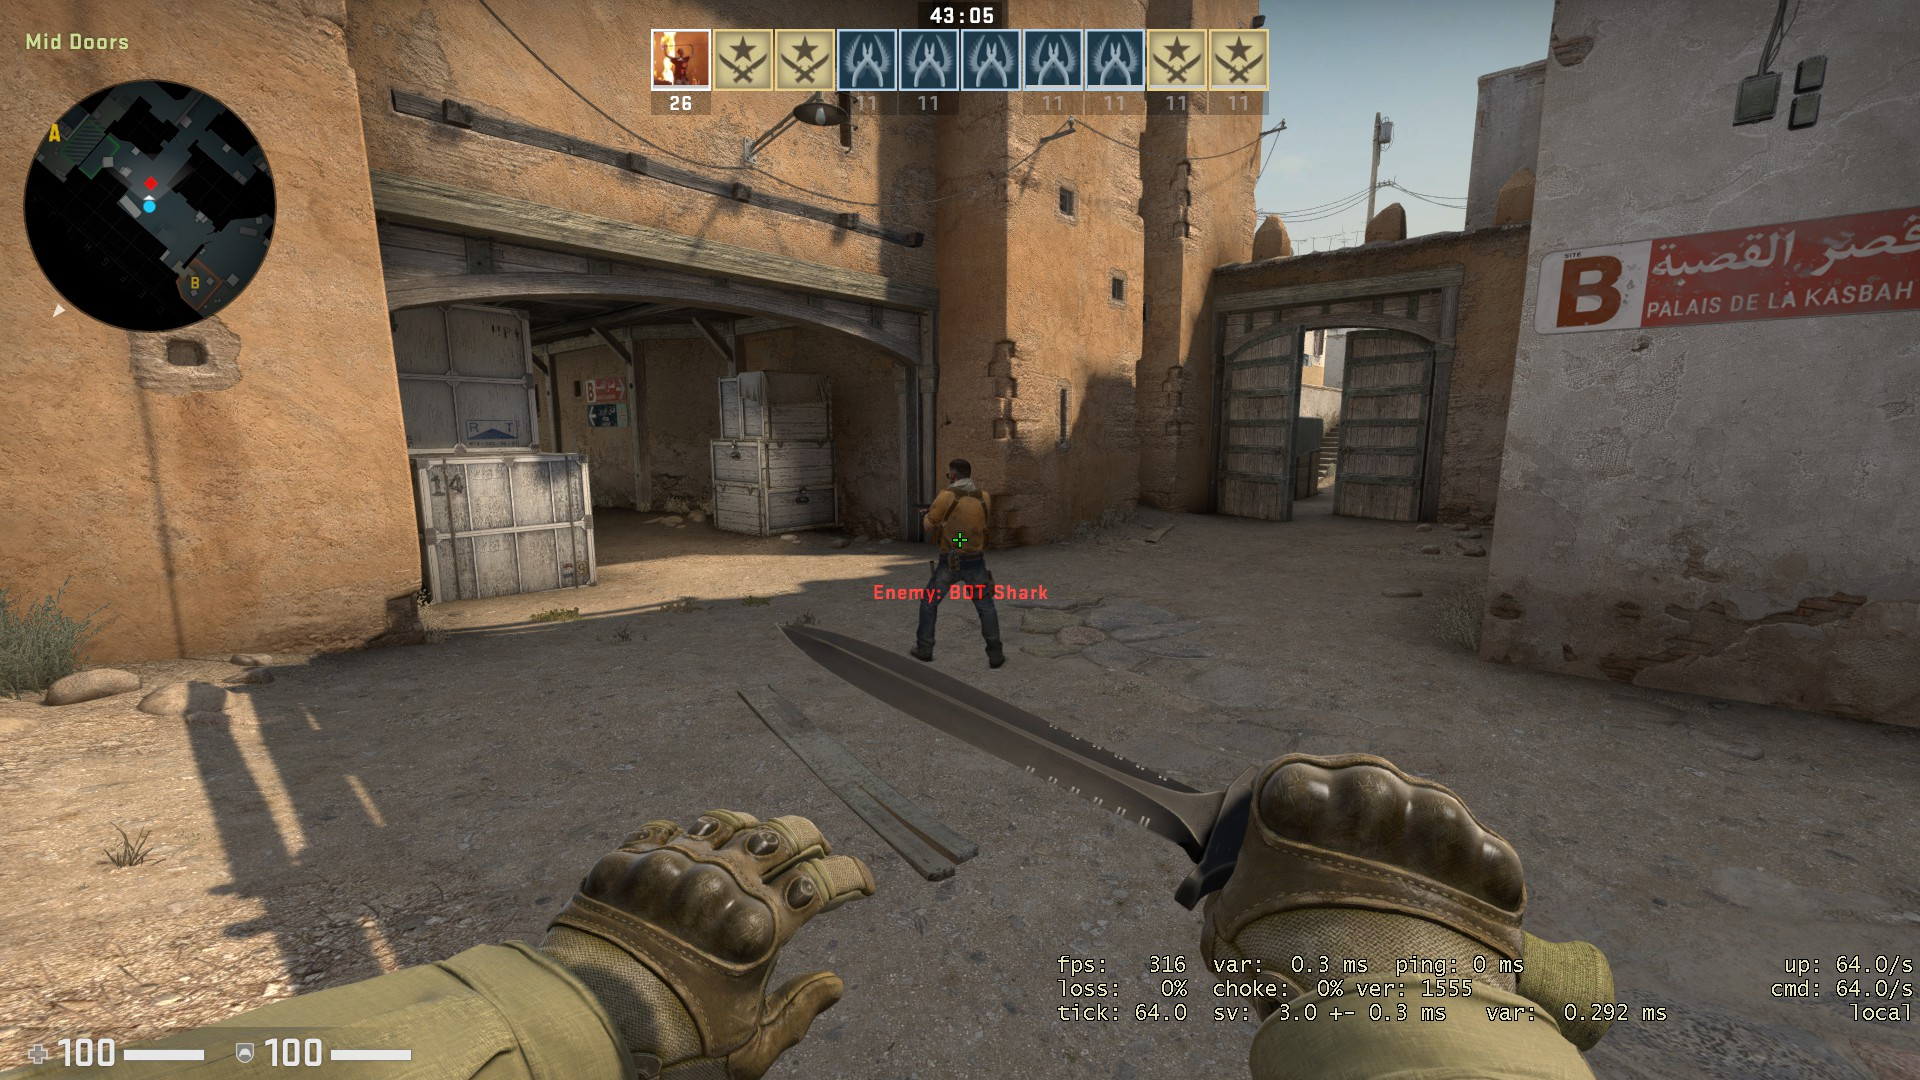player: (900, 452, 1013, 676)
